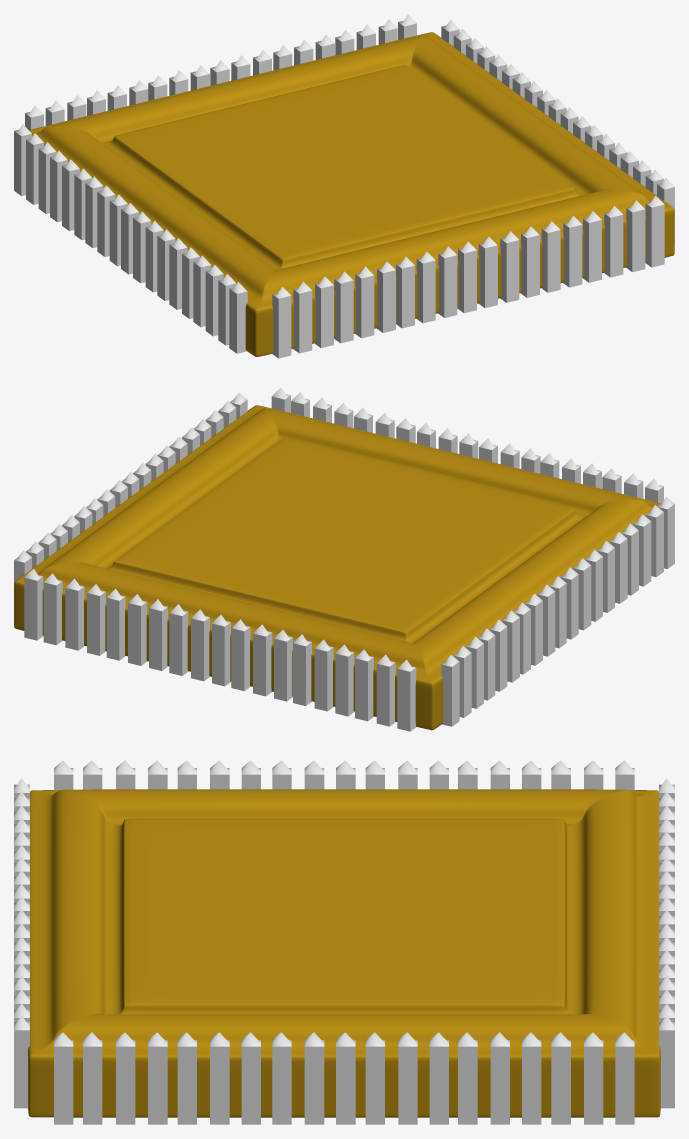
Rendered from cpu.fbx.
The picture shows the model from 3 angles, top to bottom: view 1: azimuth 30°, elevation 25°; view 2: azimuth 150°, elevation 25°; view 3: azimuth 270°, elevation 25°; orthographic projection. The views are drawn at different scales.
Parts seen in each view (by area): view 1: cpu, cpu_wall; view 2: cpu, cpu_wall; view 3: cpu, cpu_wall.
Boxes of the visible parts, left/top/right/bottom form: cpu: left=29, top=32, right=674, bottom=356; cpu_wall: left=14, top=14, right=674, bottom=358; cpu: left=14, top=405, right=660, bottom=730; cpu_wall: left=14, top=387, right=674, bottom=731; cpu: left=28, top=789, right=660, bottom=1117; cpu_wall: left=14, top=760, right=674, bottom=1124.
Bounding box in the file's own units: 6.03 × 0.8983 × 6.05.
